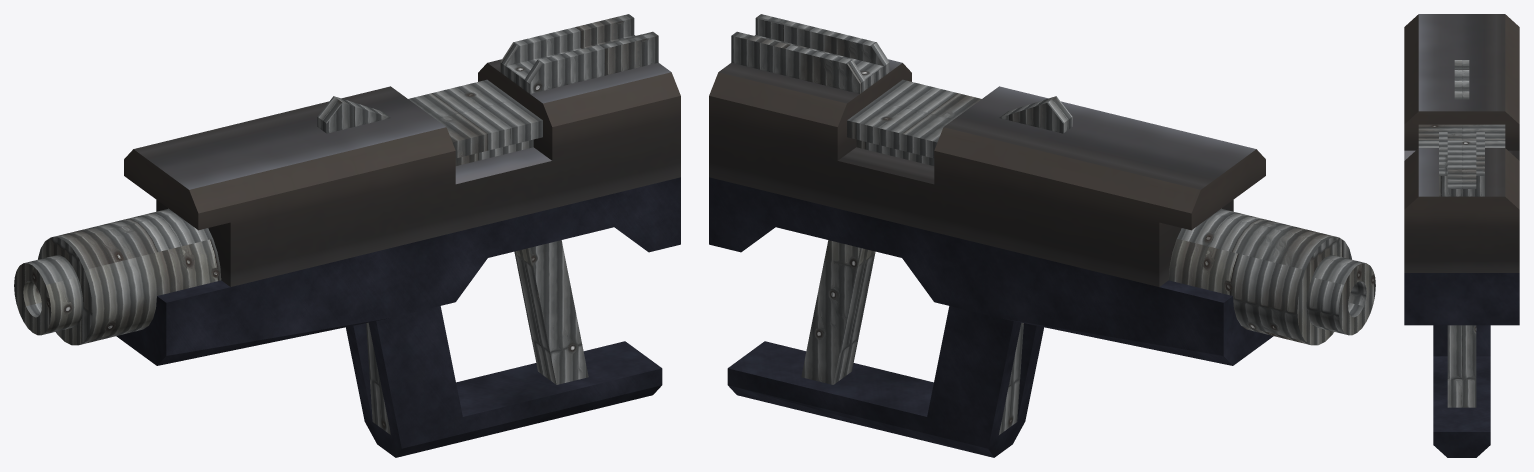
File: Blaster_WithScope.glb
3 views of the same model, side by side, from view 1: azimuth 30°, elevation 25°; view 2: azimuth 150°, elevation 25°; view 3: azimuth 270°, elevation 25° (orthographic). The views are drawn at different scales.
Visible parts, largest first — view 1: mergedBlocks(Clone); view 2: mergedBlocks(Clone); view 3: mergedBlocks(Clone).
Boxes of the visible parts, x1,y1,x2,y2 form: mergedBlocks(Clone): [14, 14, 680, 457]; mergedBlocks(Clone): [709, 14, 1375, 457]; mergedBlocks(Clone): [1404, 14, 1519, 457].
Size of the model in its own units: 1.9 by 1.08 by 0.4.
Materials: 3 (3 with a texture image).
